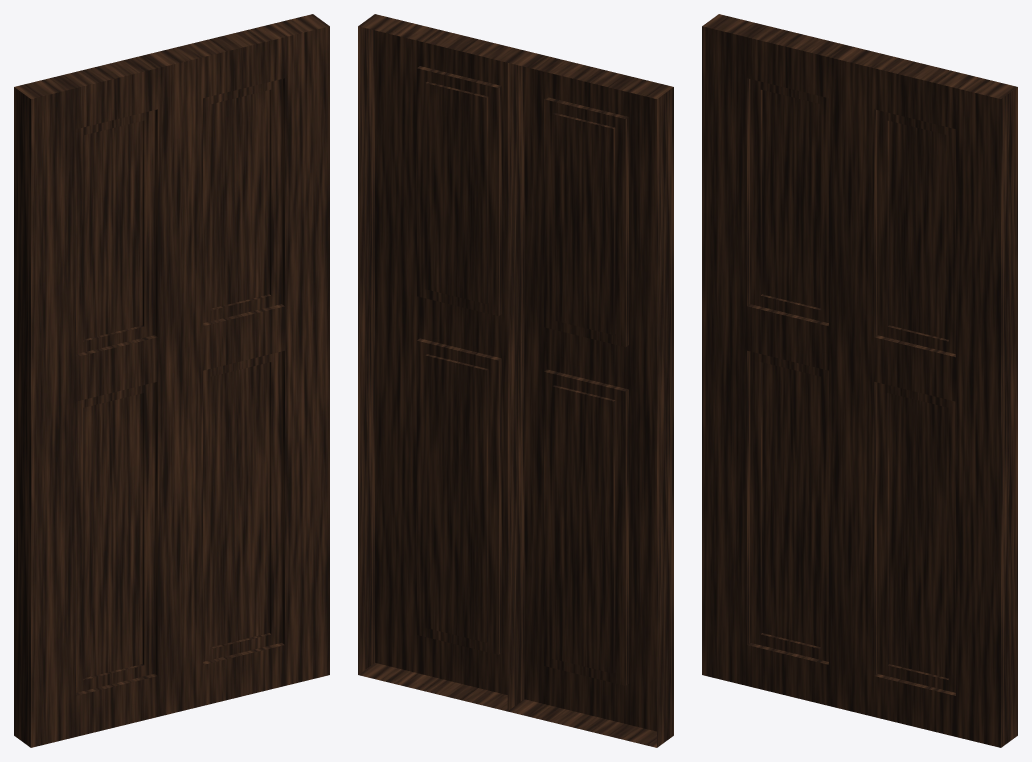
File: Door5_dark.glb
The picture shows the model from 3 angles, left to right: view 1: azimuth 30°, elevation 25°; view 2: azimuth 150°, elevation 25°; view 3: azimuth 330°, elevation 25°; orthographic projection.
Visible parts, largest first — view 1: Door5_dark; view 2: Door5_dark; view 3: Door5_dark.
Boxes of the visible parts, left/top/right/bottom form: Door5_dark: left=14, top=14, right=329, bottom=747; Door5_dark: left=358, top=14, right=673, bottom=747; Door5_dark: left=702, top=14, right=1017, bottom=747.
Size of the model in its own units: 0.4409 by 0.9146 by 0.0429.
Materials: 1 (1 with a texture image).
